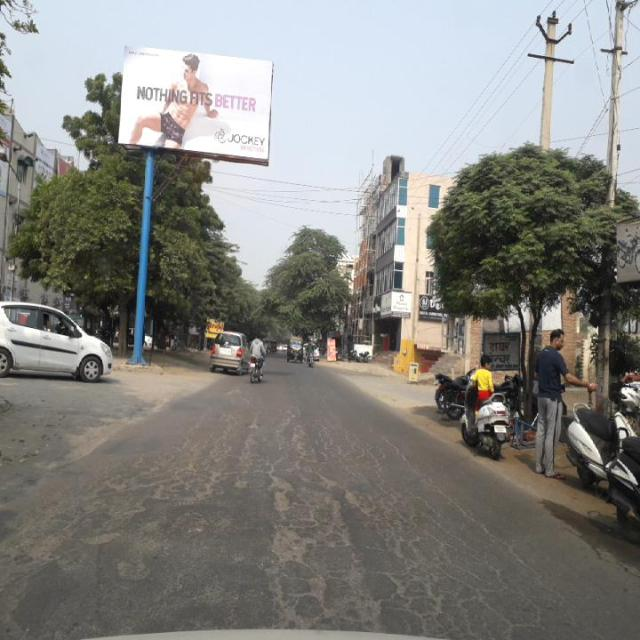D20: (31, 499, 558, 636), (105, 407, 422, 500)
D40: (258, 430, 388, 628)
